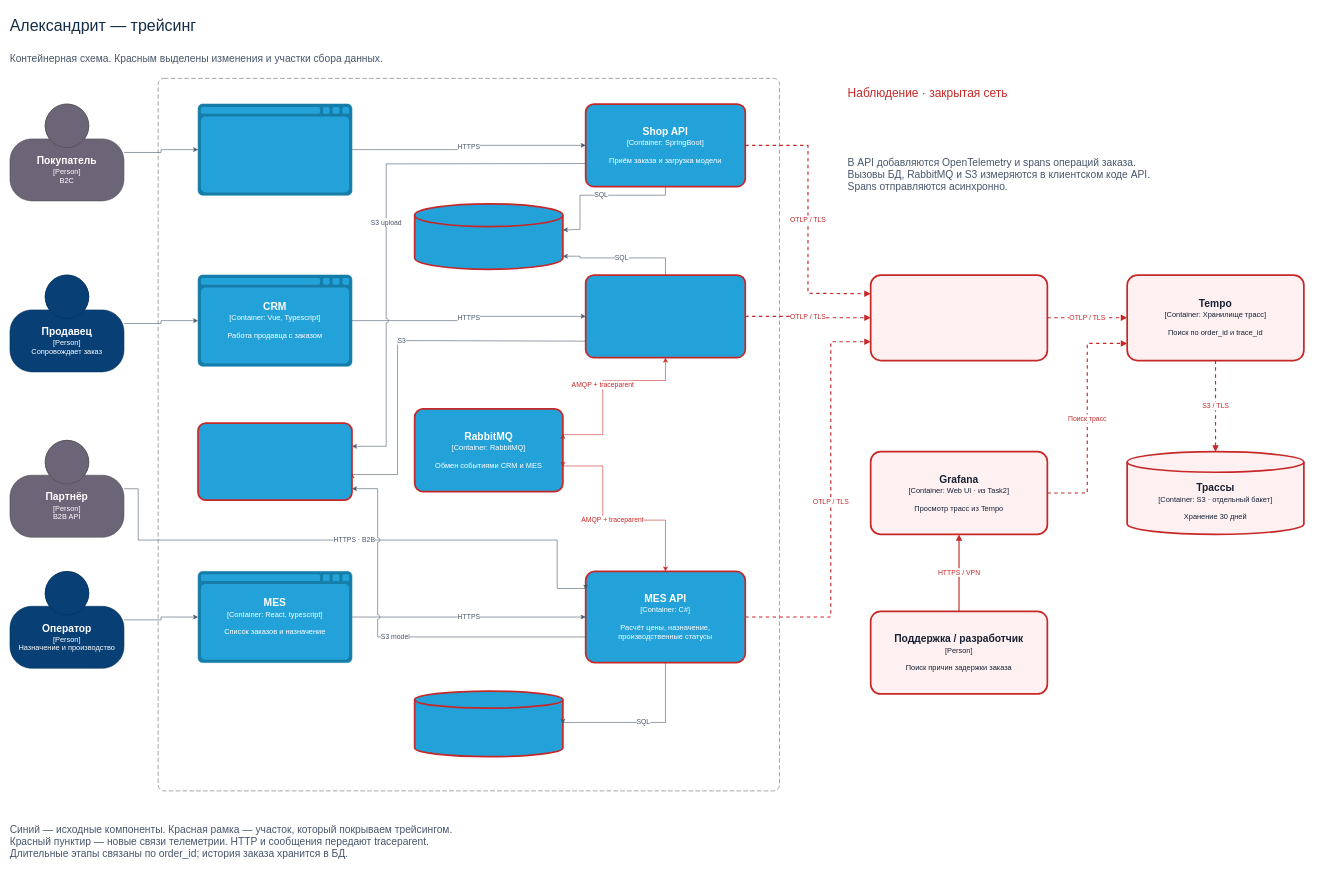
The diagram is 1325 pixels wide and 883 high, and some of its shapes have lost their labels. Here are the shapes that lost their labels. From the top down, the box of each, then its label:
(198, 103, 352, 195): Магазин [Container: Vue, TypeScript, Threejs] Создание заказа и 3D-модели
(414, 203, 563, 270): Shop DB [Container: PostgreSQL] Заказы магазина и CRM
(585, 274, 746, 358): CRM API [Container: SpringBoot] Согласование и закрытие заказа
(870, 274, 1048, 361): OpenTelemetry Collector [Container: OpenTelemetry] Приём и отправка spans
(158, 78, 779, 791): Alexandrite · бизнес-система [Software System]
(197, 422, 353, 501): 3D-файлы [Container: S3-based storage] Модели изделий
(414, 690, 563, 757): MES DB [Container: PostgreSQL] Производственные заказы
